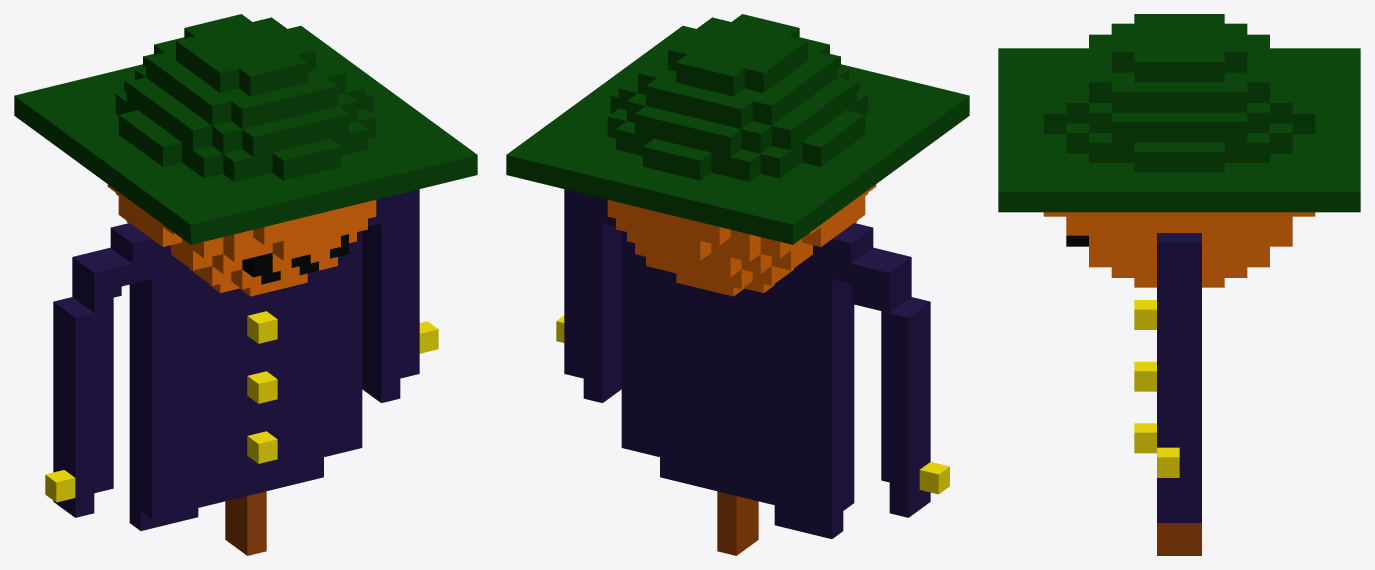
File: scarecrow.obj
The picture shows the model from 3 angles, left to right: view 1: azimuth 30°, elevation 25°; view 2: azimuth 150°, elevation 25°; view 3: azimuth 270°, elevation 25°; orthographic projection. The views are drawn at different scales.
Size of the model in its own units: 2 by 2.5 by 1.6.
1 material, 1 textured.
